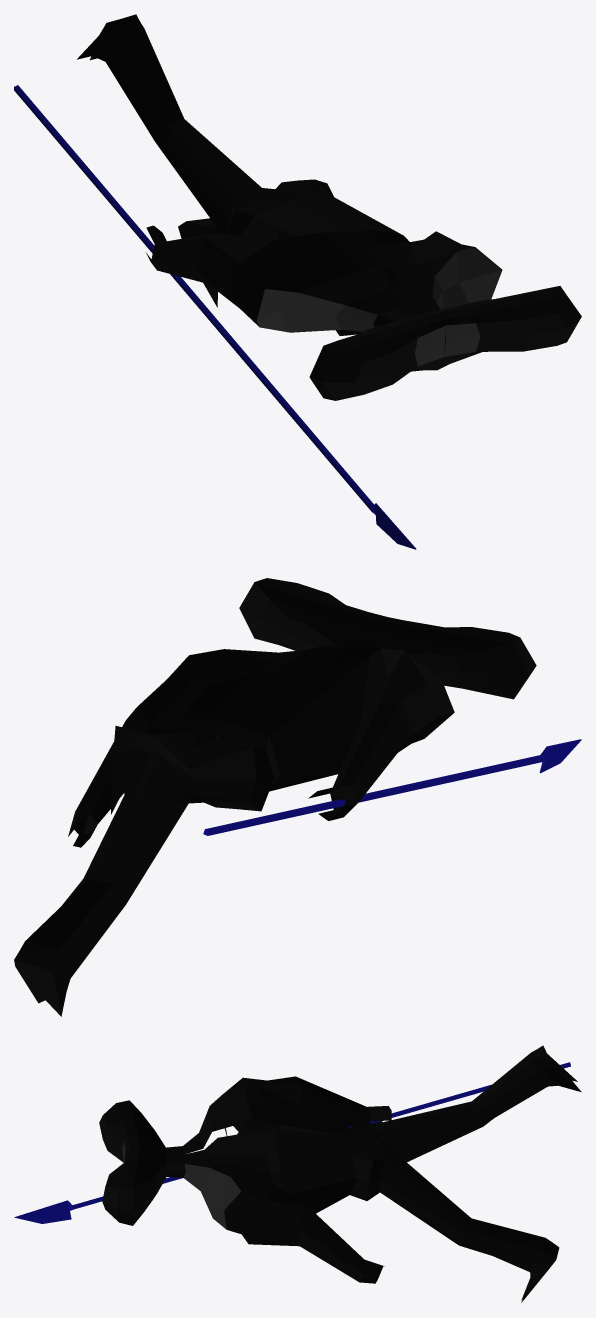
File: Spearman1w.obj
3 views of the same model, one above another, from view 1: azimuth 30°, elevation 25°; view 2: azimuth 150°, elevation 25°; view 3: azimuth 270°, elevation 25° (orthographic). The views are drawn at different scales.
Parts seen in each view (by area): view 1: Cube; view 2: Cube; view 3: Cube.
Boxes of the visible parts, x1=… form: Cube: x1=14, y1=14, x2=581, y2=549; Cube: x1=14, y1=578, x2=581, y2=1016; Cube: x1=14, y1=1045, x2=581, y2=1302.
Bounding box in the file's own units: 0.7214 × 0.7615 × 1.77.
